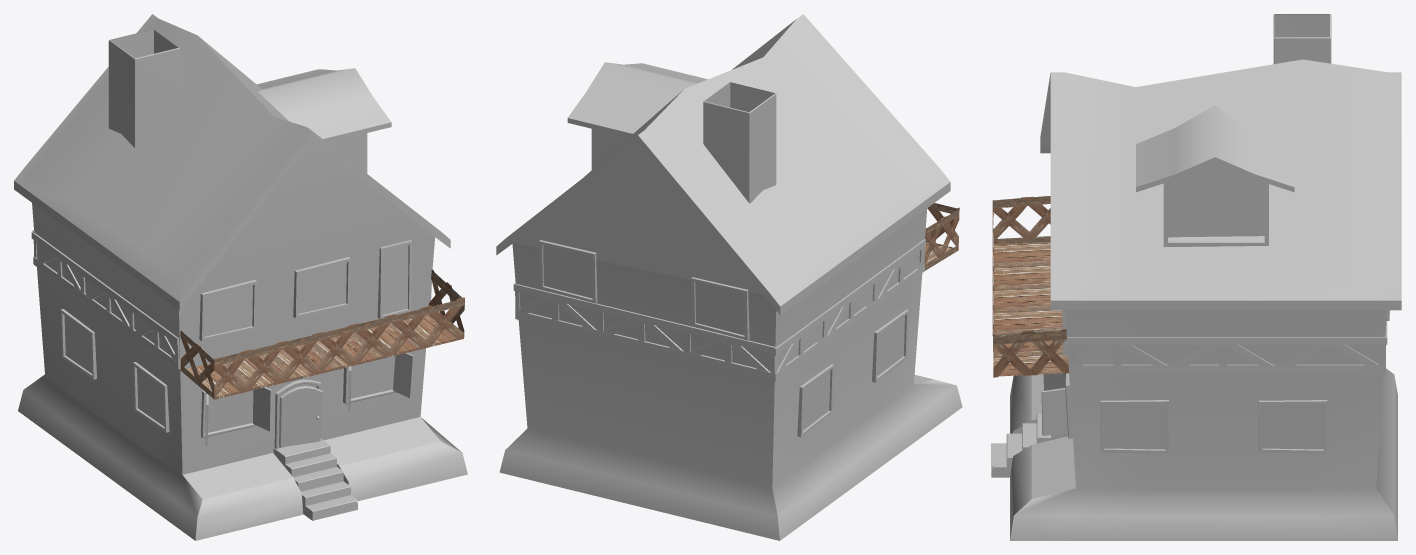
The model's file is FantasyHouse.fbx.
The picture shows the model from 3 angles, left to right: view 1: azimuth 30°, elevation 25°; view 2: azimuth 150°, elevation 25°; view 3: azimuth 270°, elevation 25°; orthographic projection. The views are drawn at different scales.
Visible parts, largest first — view 1: FantasyHouse, Balcony; view 2: FantasyHouse, Balcony; view 3: FantasyHouse, Balcony.
Boxes of the visible parts, left/top/right/bottom form: FantasyHouse: left=14, top=14, right=467, bottom=540; Balcony: left=180, top=269, right=464, bottom=399; FantasyHouse: left=496, top=14, right=962, bottom=540; Balcony: left=924, top=203, right=959, bottom=270; FantasyHouse: left=991, top=14, right=1401, bottom=540; Balcony: left=992, top=196, right=1068, bottom=377.
Size of the model in its own units: 13.26 by 17.4 by 15.63.
